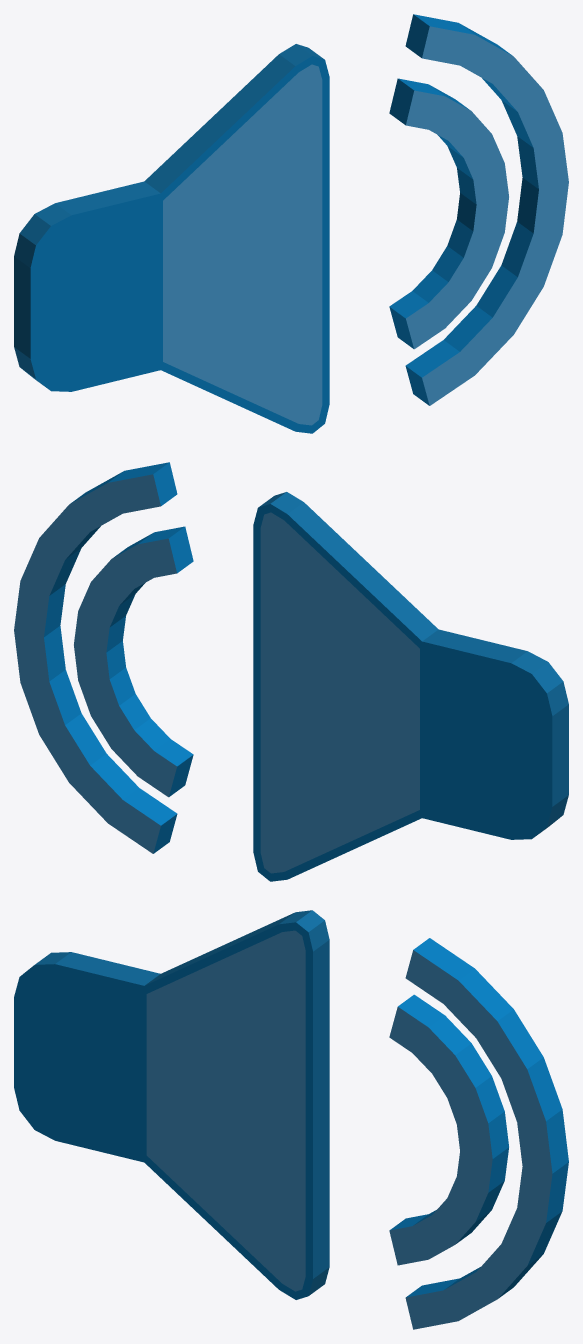
Rendered from Ambient_Sound.glb.
3 views of the same model, one above another, from view 1: azimuth 30°, elevation 25°; view 2: azimuth 150°, elevation 25°; view 3: azimuth 330°, elevation 25° (orthographic).
Parts seen in each view (by area): view 1: Cube; view 2: Cube; view 3: Cube.
Part boxes in pixels (x1,y1,x2,y2): Cube: (14, 14, 568, 433); Cube: (14, 462, 568, 881); Cube: (14, 910, 568, 1329).
Bounding box in the file's own units: 0.2962 × 0.1996 × 0.0157.
Materials: 1 (1 with a texture image).
